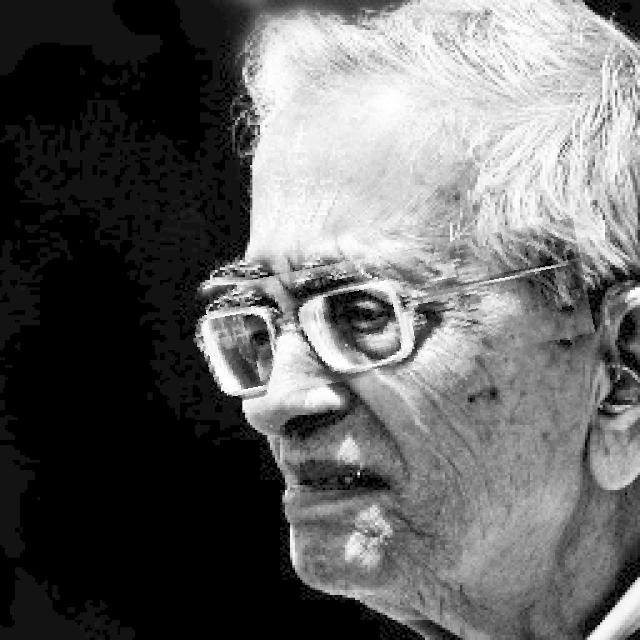glasses: (188, 236, 592, 389)
